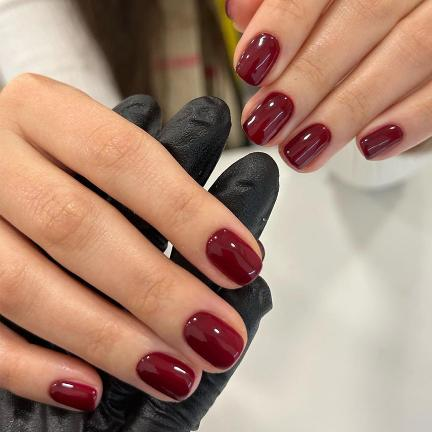Nail: (183, 311, 245, 370), (206, 229, 263, 286), (136, 352, 195, 401), (242, 92, 294, 146), (235, 33, 280, 87), (283, 124, 331, 170), (359, 124, 403, 161), (49, 380, 98, 411)
